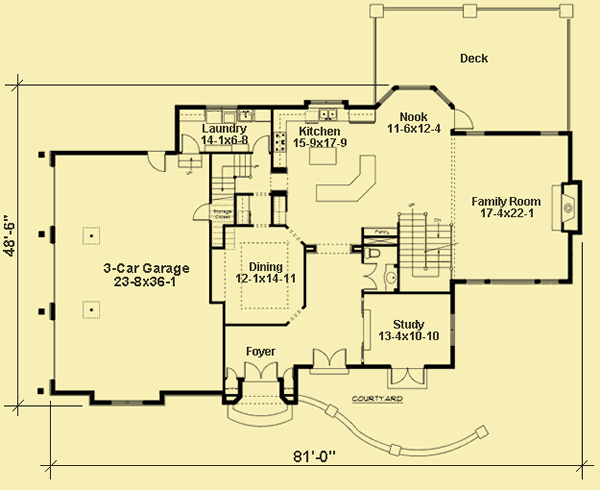door: (311, 346, 348, 369), (390, 364, 427, 387), (242, 361, 281, 381), (146, 148, 169, 173), (450, 110, 476, 130), (362, 261, 378, 291), (251, 134, 274, 154), (180, 134, 201, 152), (190, 203, 208, 220)
large_sink: (362, 246, 383, 261)
small_sink: (381, 262, 398, 291)
stairs: (210, 152, 255, 251), (399, 209, 452, 293)
twin_sink: (318, 109, 339, 121)
window: (377, 84, 453, 109), (462, 278, 558, 286)
